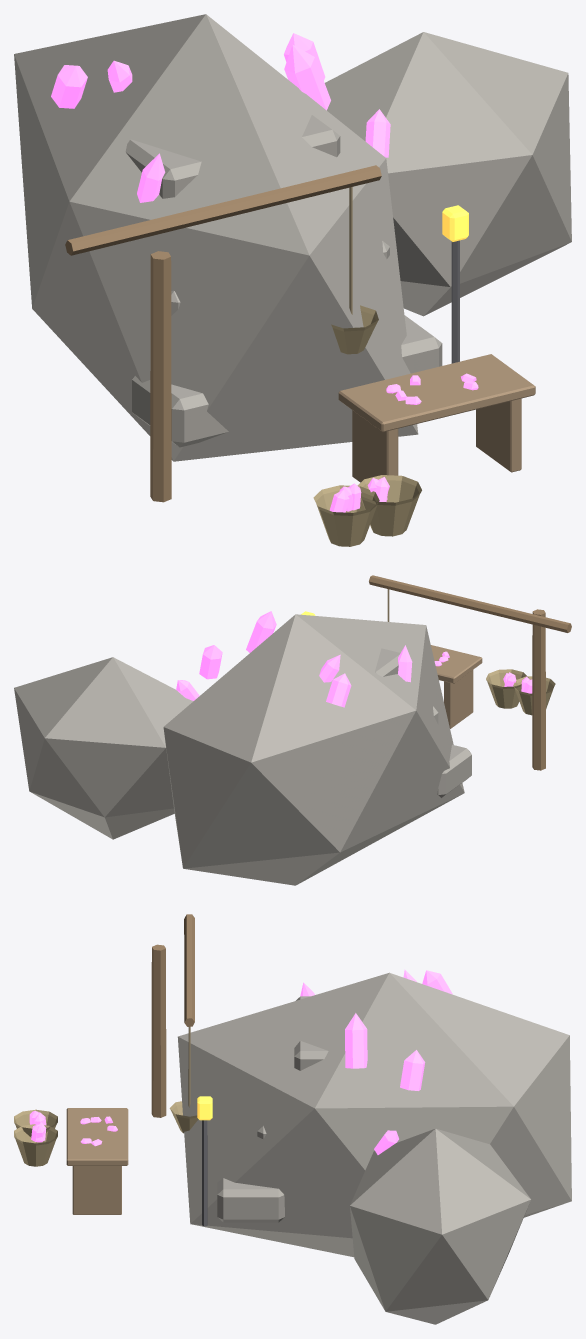
Rendered from bld_zhila.glb.
3 renders of one model, top to bottom at view 1: azimuth 30°, elevation 25°; view 2: azimuth 150°, elevation 25°; view 3: azimuth 270°, elevation 25°, orthographic. The views are drawn at different scales.
Visible parts, largest first — view 1: zhila; view 2: zhila; view 3: zhila.
Boxes of the visible parts, box(x1,y1,x2,y2) form: zhila: box(14, 14, 571, 546); zhila: box(14, 575, 571, 885); zhila: box(14, 914, 571, 1324).
Size of the model in its own units: 1.77 by 1.05 by 1.81.
